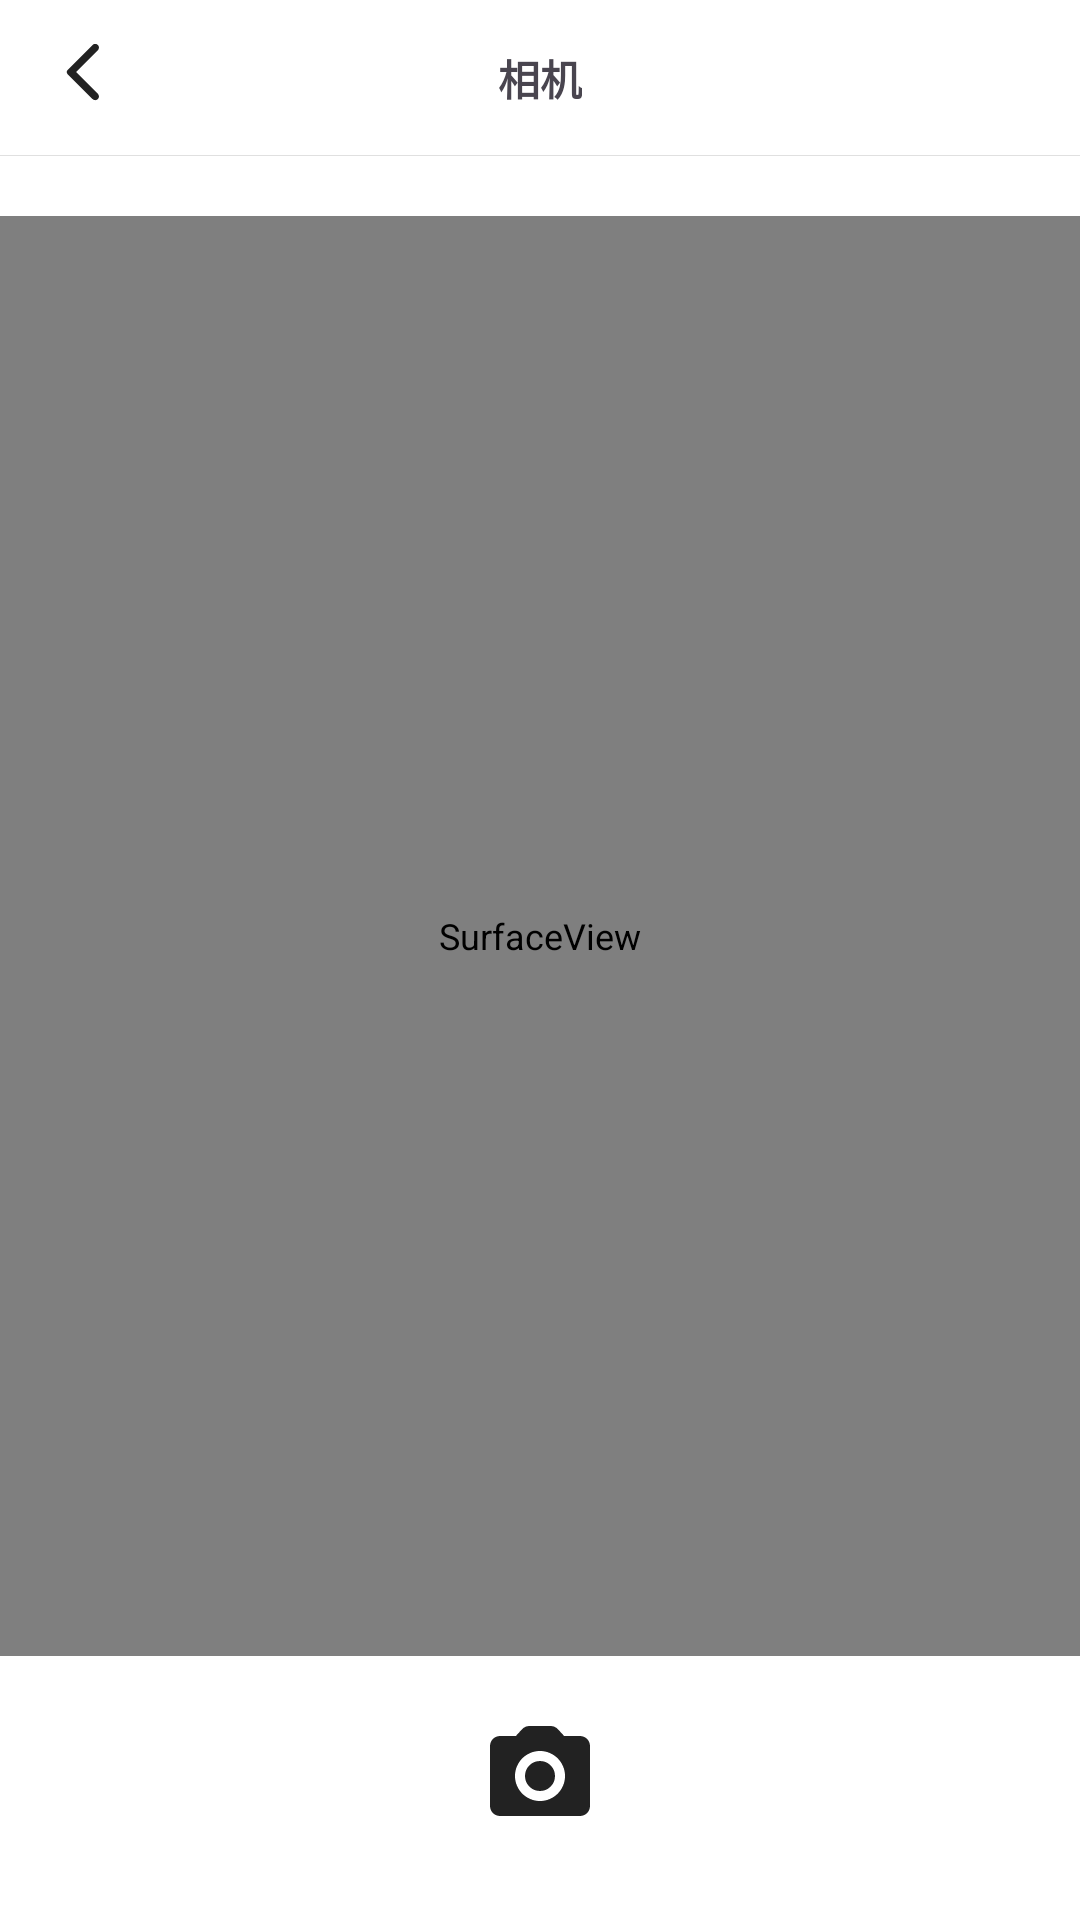

Icons on this 1080px x 1920px Android screen, each with the point to tap as (x=x, y=y):
camera: (x=540, y=1771)
